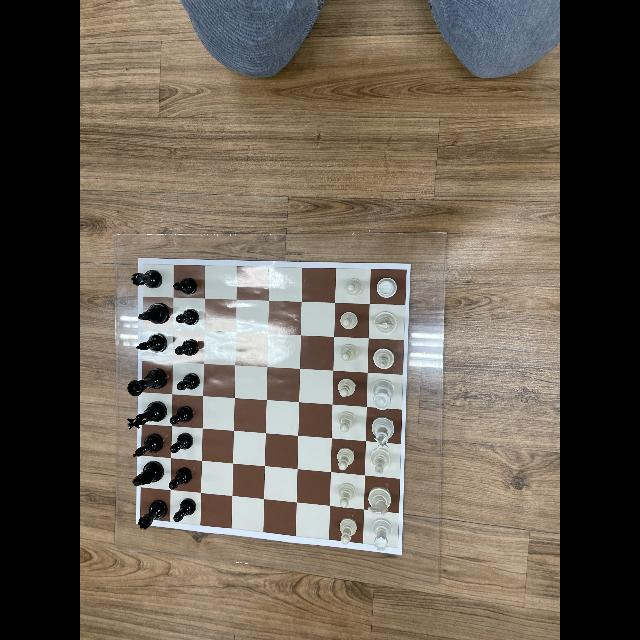chessboard-corner: (398, 550, 406, 558), (136, 256, 142, 262), (408, 260, 414, 266), (134, 522, 140, 528)
